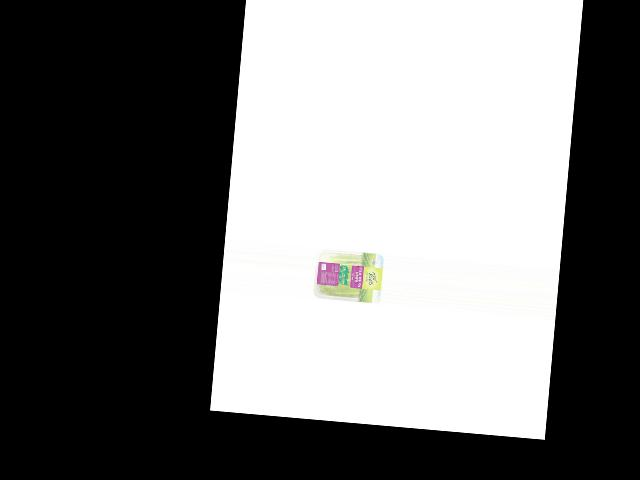lettuce: (312, 247, 379, 303)
